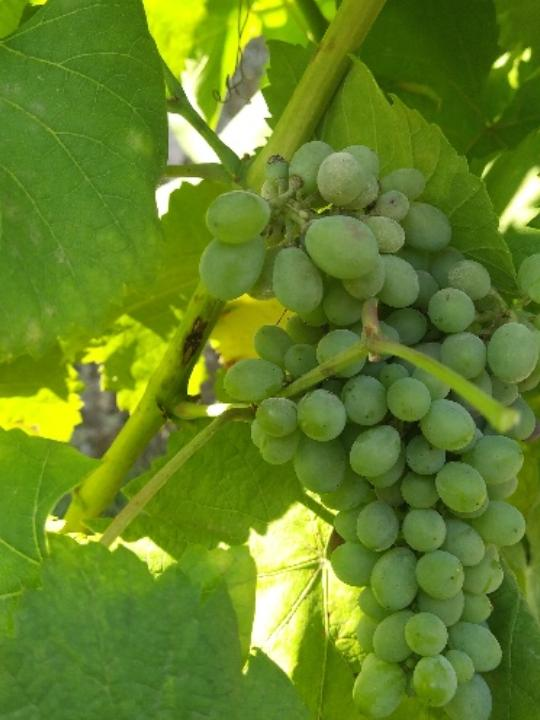grape: (196, 144, 540, 720)
